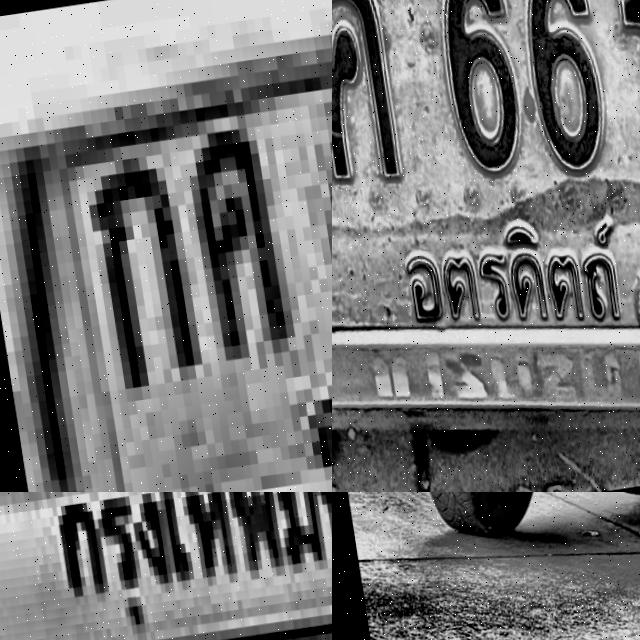license-plate: (0, 0, 332, 492), (332, 0, 640, 492), (0, 492, 332, 640)
